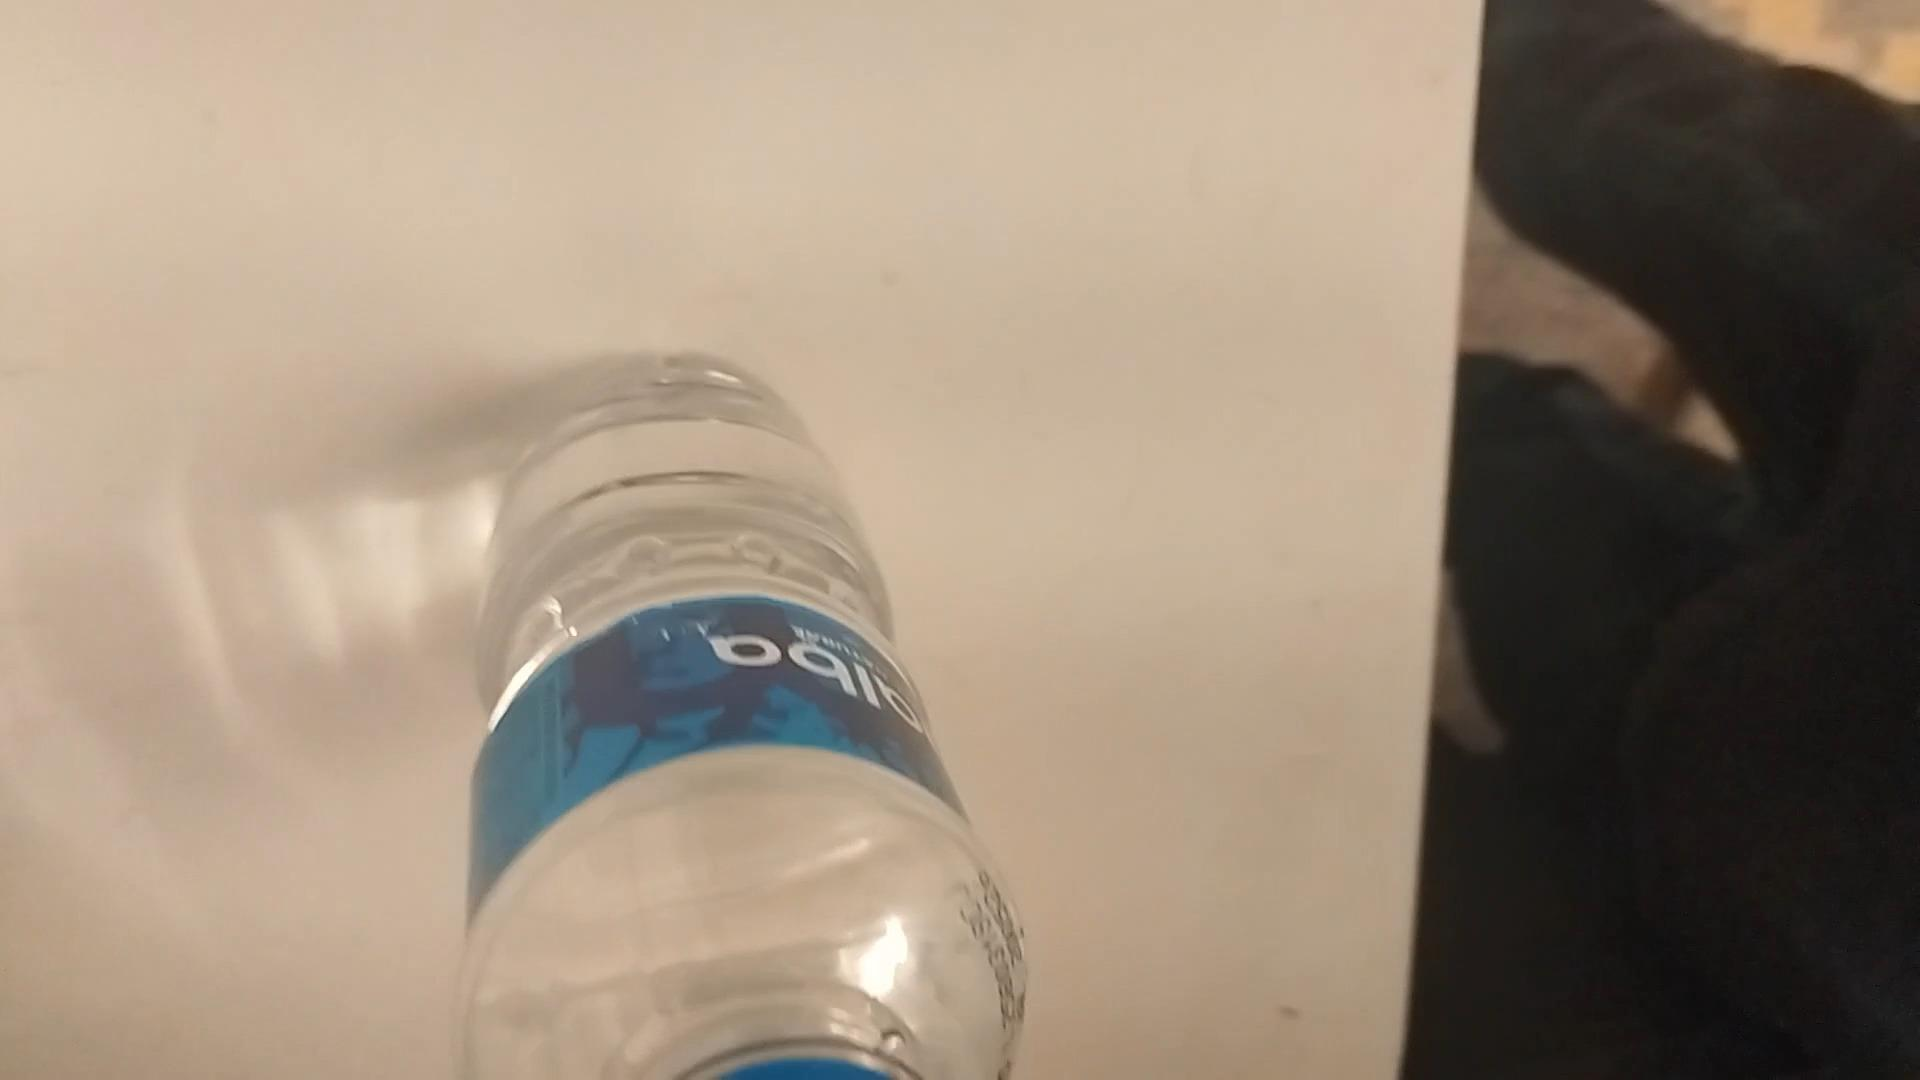agua: (452, 352, 1022, 1076)
